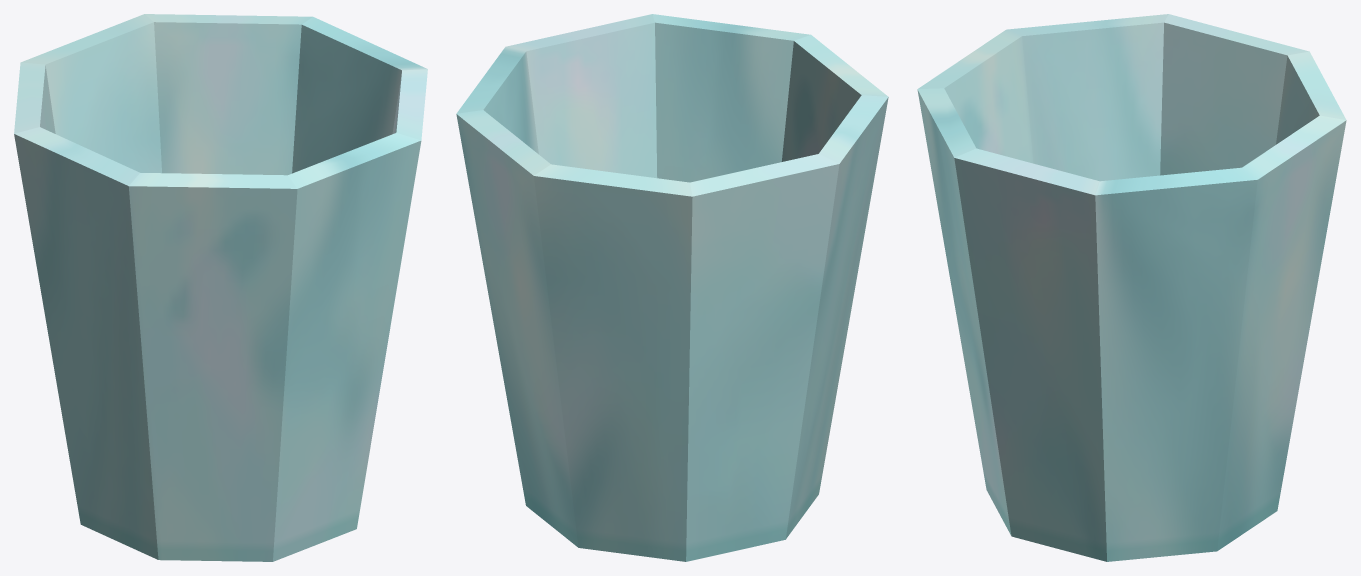
File: CopoVazio.fbx
3 views of the same model, side by side, from view 1: azimuth 30°, elevation 25°; view 2: azimuth 150°, elevation 25°; view 3: azimuth 270°, elevation 25° (orthographic).
Visible parts, largest first — view 1: Copo; view 2: Copo; view 3: Copo.
Boxes of the visible parts, left/top/right/bottom form: Copo: left=14, top=14, right=427, bottom=561; Copo: left=456, top=14, right=888, bottom=561; Copo: left=917, top=14, right=1346, bottom=561.
Size of the model in its own units: 62.35 by 63.89 by 62.35.
